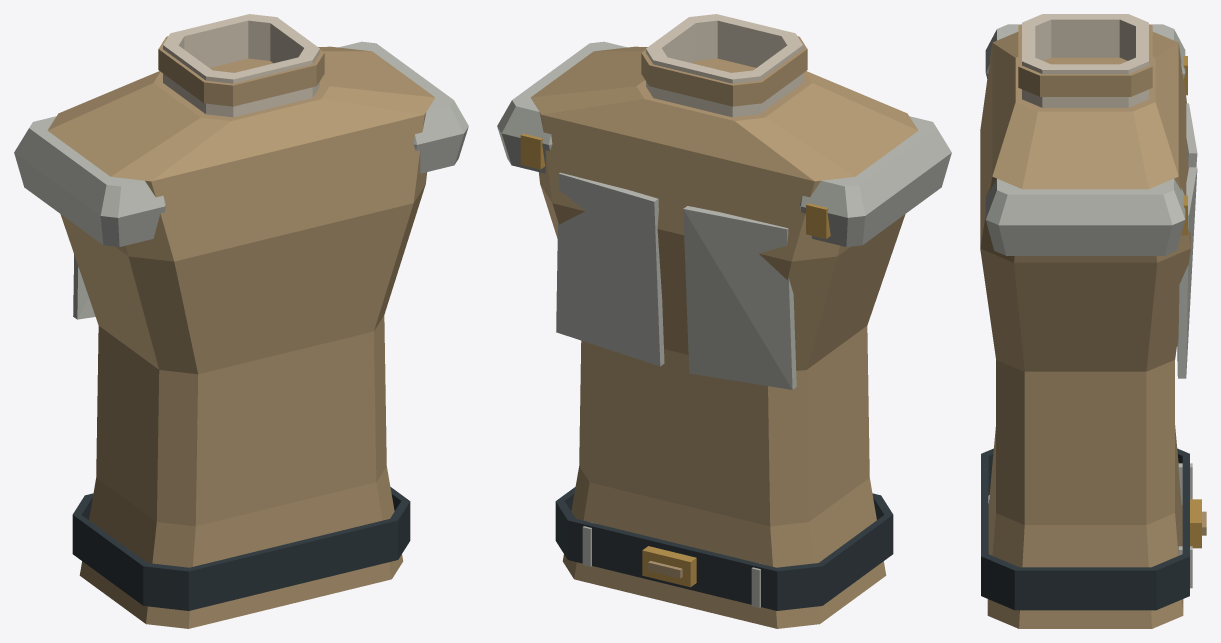
The model's file is visual-far.glb.
3 views of the same model, side by side, from view 1: azimuth 30°, elevation 25°; view 2: azimuth 150°, elevation 25°; view 3: azimuth 270°, elevation 25° (orthographic).
Visible parts, largest first — view 1: 现有程序躯干 · 同用途配色; view 2: 现有程序躯干 · 同用途配色; view 3: 现有程序躯干 · 同用途配色.
Boxes of the visible parts, x1,y1,x2,y2 form: 现有程序躯干 · 同用途配色: (14, 14, 468, 628); 现有程序躯干 · 同用途配色: (497, 14, 951, 628); 现有程序躯干 · 同用途配色: (980, 14, 1206, 628).
Size of the model in its own units: 0.458 by 0.62 by 0.243.
5 materials, 5 textured.
